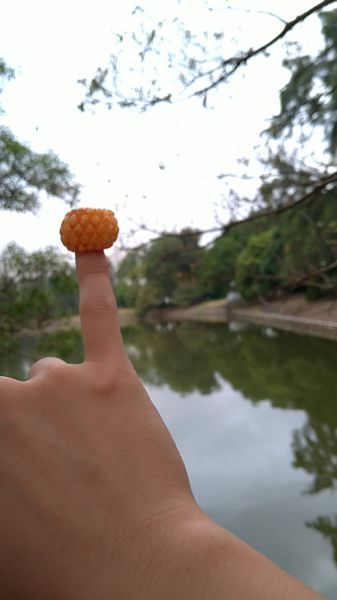eggs: (59, 209, 117, 251)
